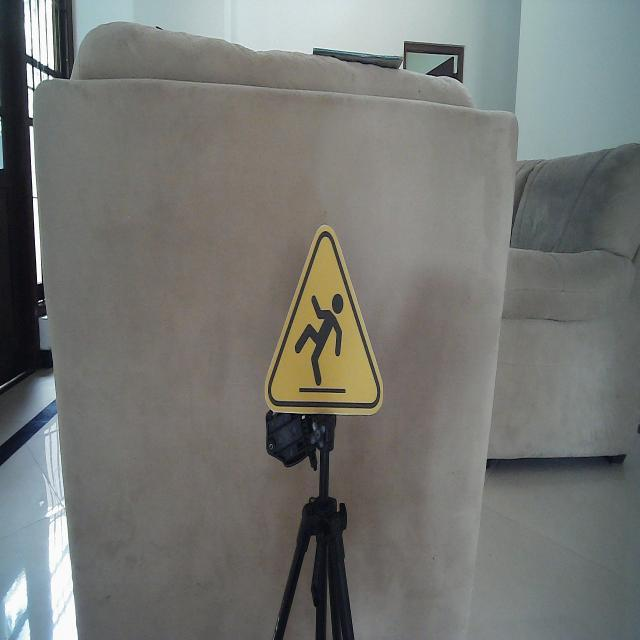slippery_sign: (263, 223, 387, 418)
